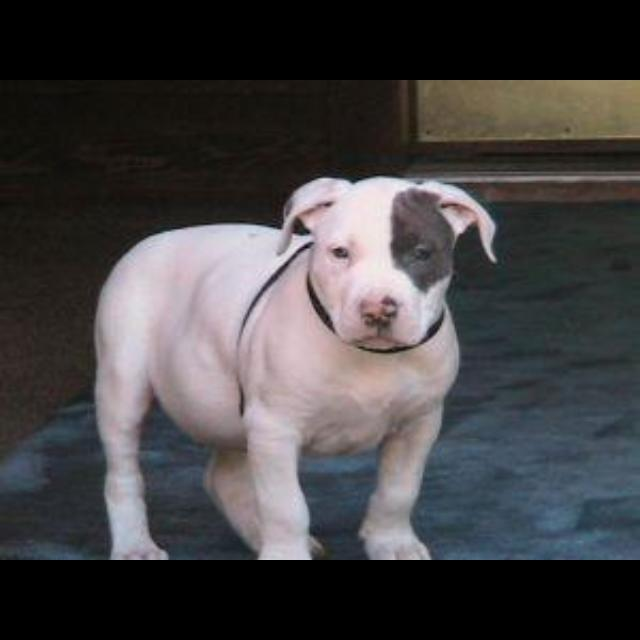amstaff: (91, 173, 498, 559)
